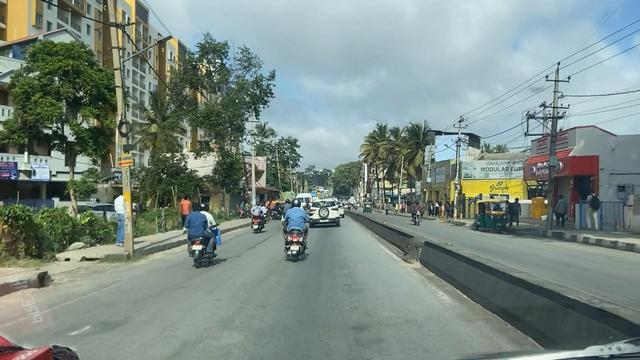LMV: (183, 207, 218, 264), (287, 205, 308, 257), (309, 200, 339, 230), (253, 203, 266, 229)
